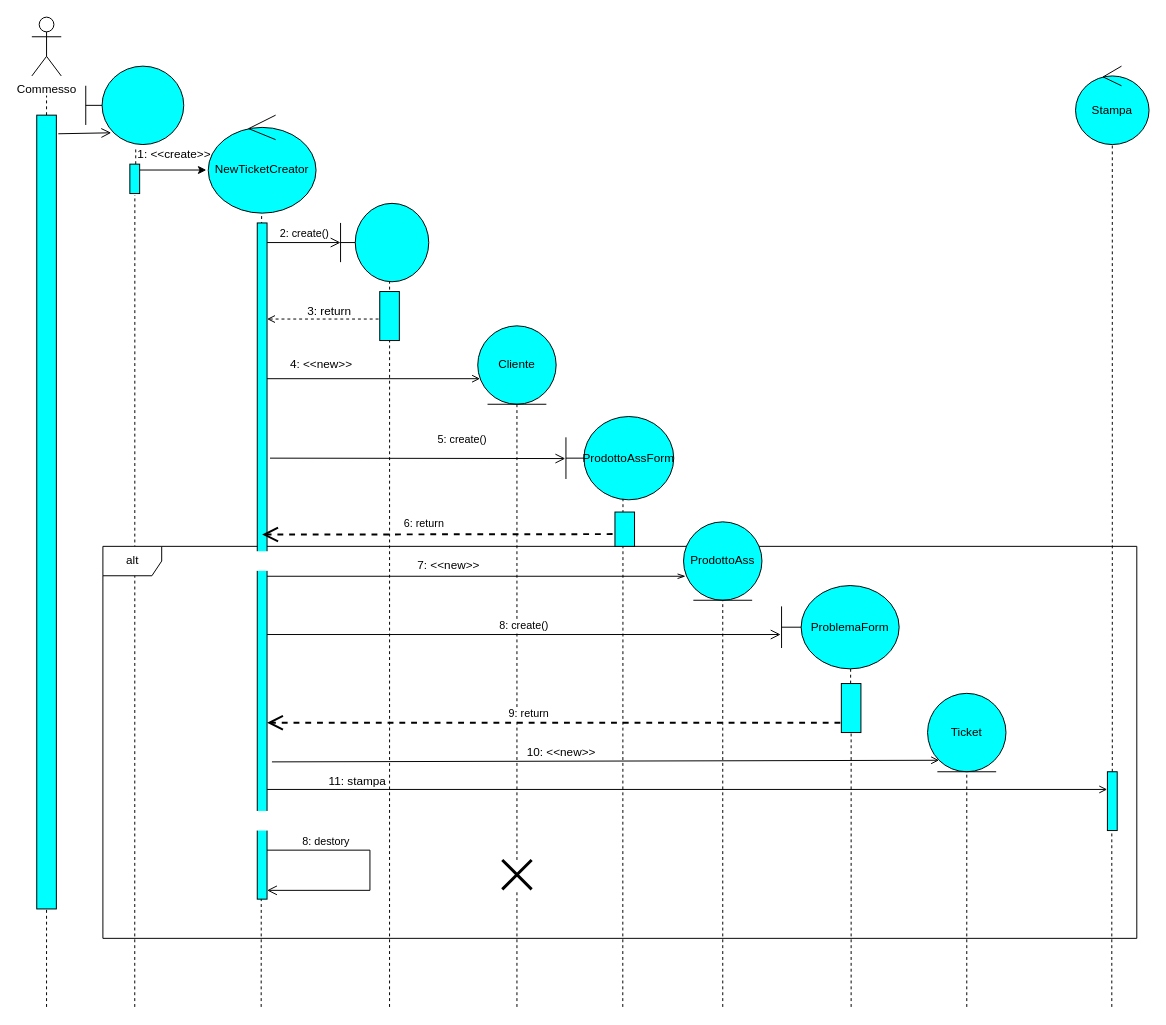
This 1166x1025 diagram has some shape labels left out. Each missing label, with the centre of its shape:
[ data_scontrino < 2 anni]: point (264, 560)
[else]: point (261, 820)
ClientForm: point (384, 242)
NewTicket: point (134, 105)
